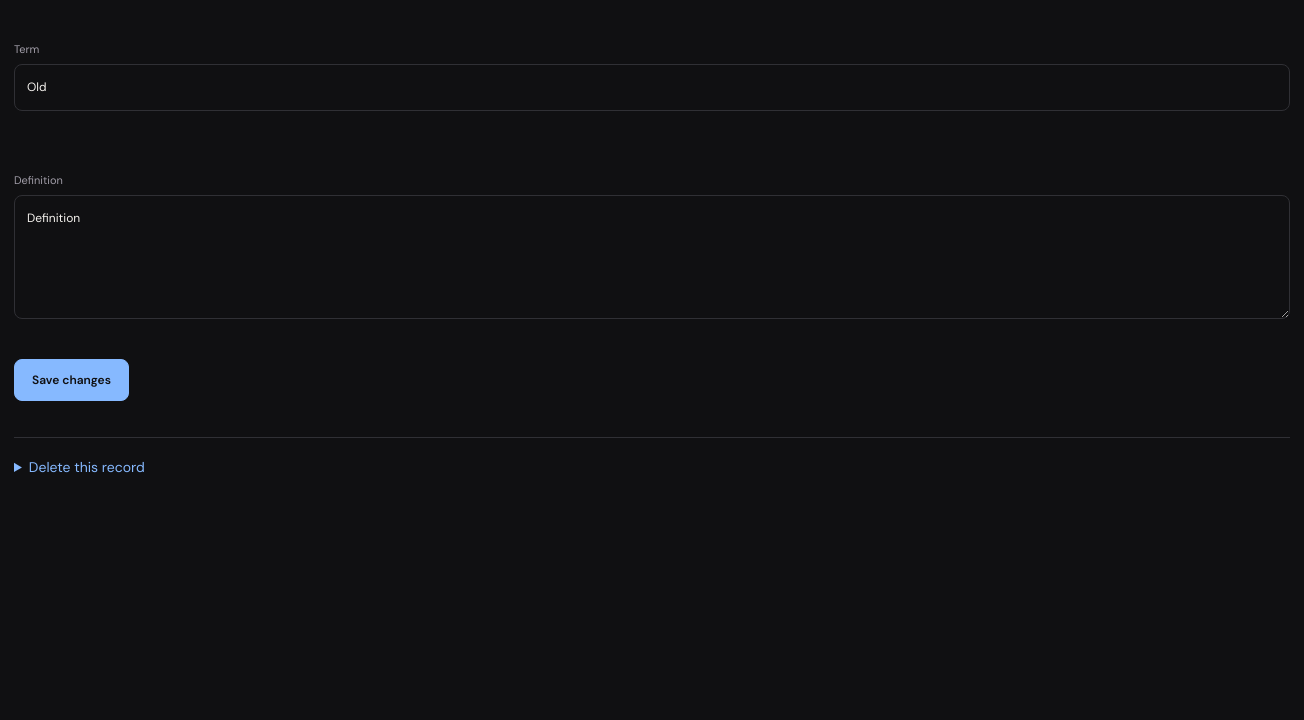
keeps edits after a failed save and sends the record version
Replace the text in the field labelled "Term" with "New term" at (652, 88), box x1=14 y1=64 x2=1290 y2=111
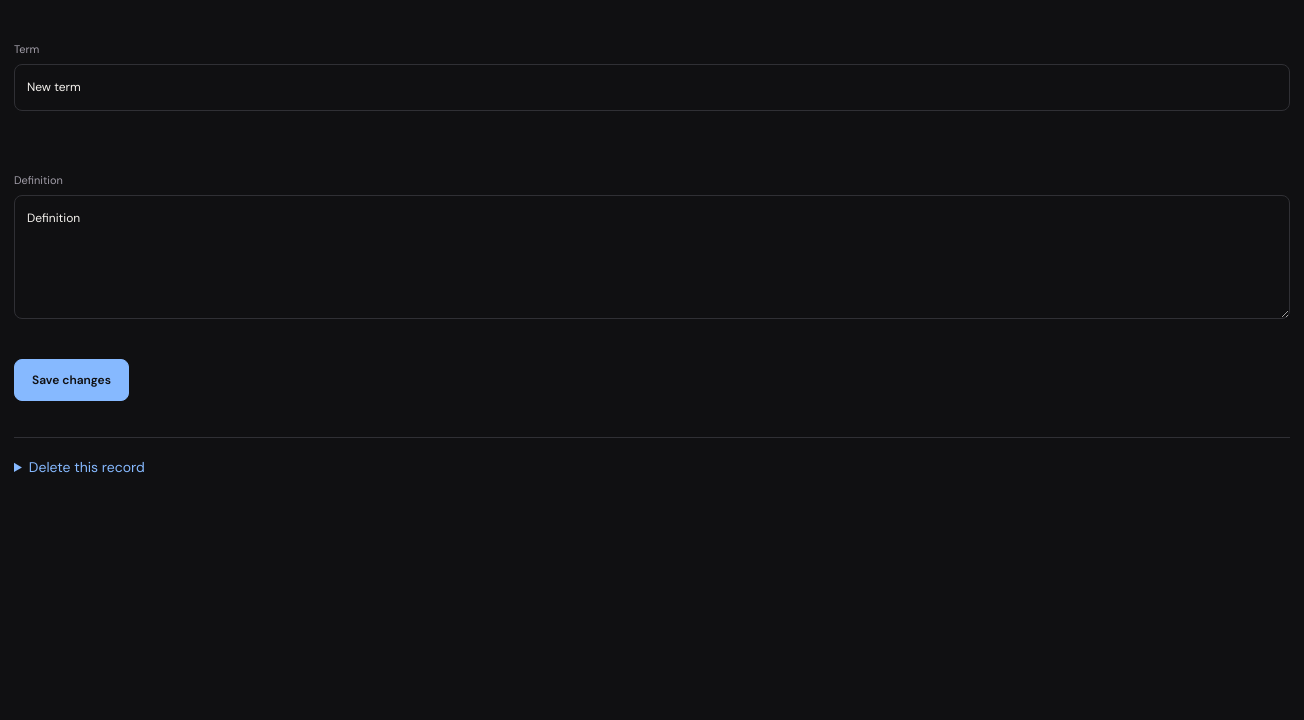
Click the button "Save changes".
click(72, 380)  # box x1=14 y1=359 x2=129 y2=401
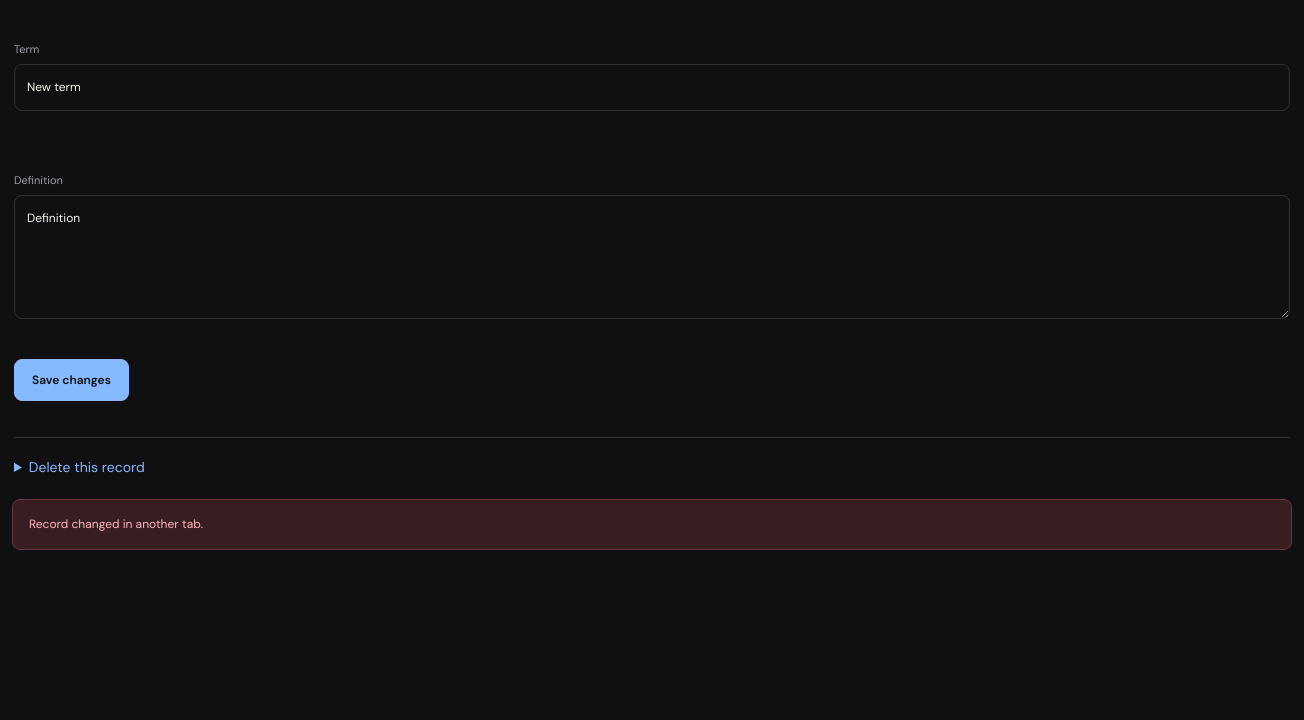
Now the message shows "another tab", box x1=29 y1=516 x2=203 y2=532
